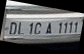character: (8, 21, 17, 35), (33, 21, 42, 35), (17, 21, 24, 35), (27, 21, 34, 35), (45, 21, 52, 35), (57, 21, 63, 35), (62, 21, 68, 34), (68, 20, 73, 34), (73, 21, 78, 33)
